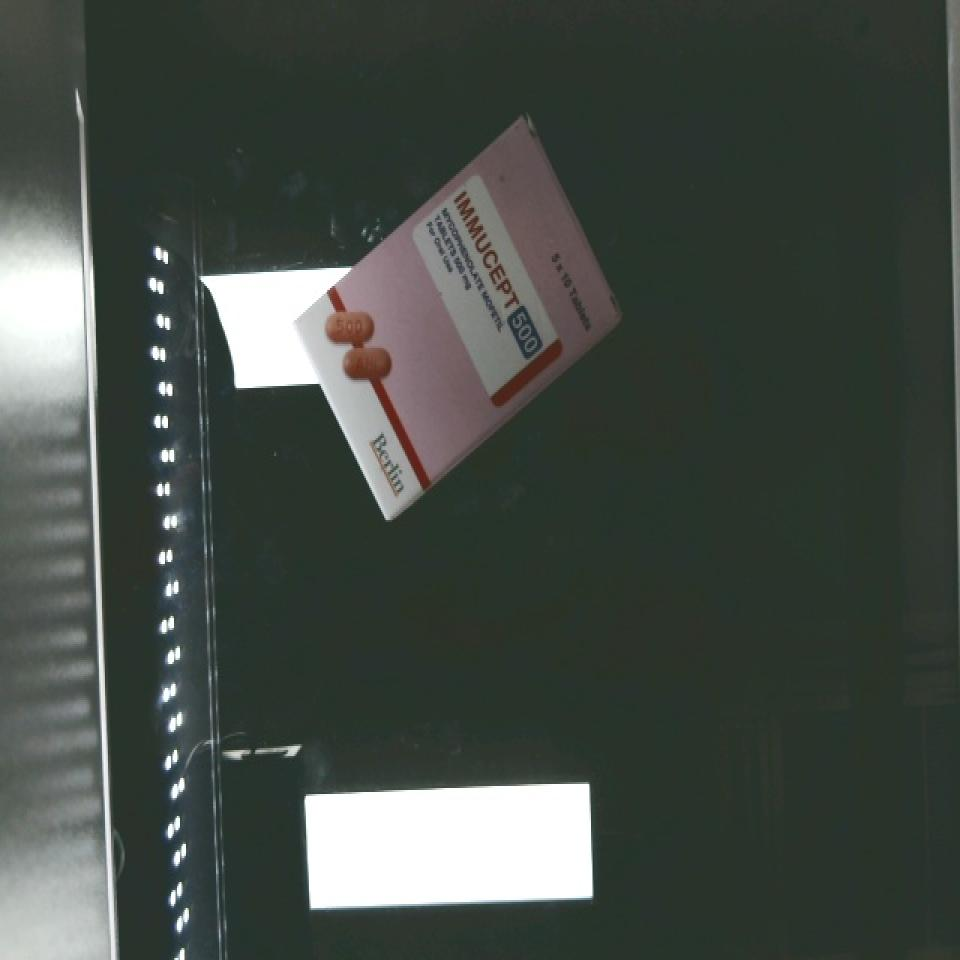medicine_box: (243, 111, 664, 521)
medicine_label_obb: (431, 178, 571, 382)
